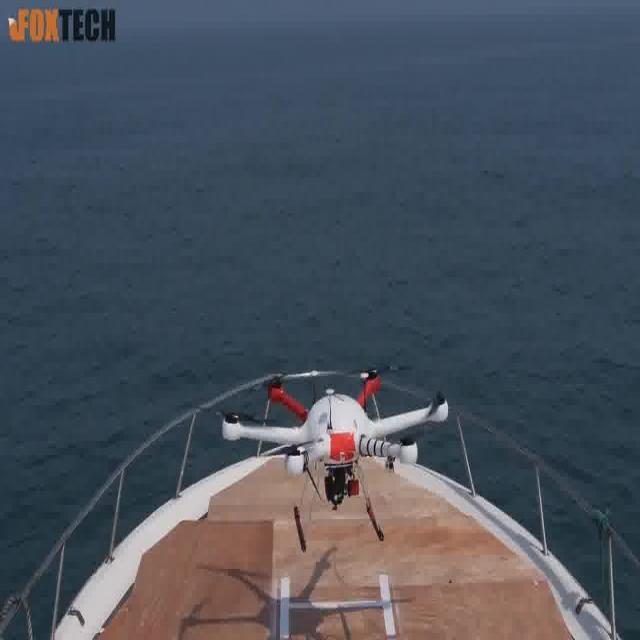drone: (232, 306, 448, 566)
